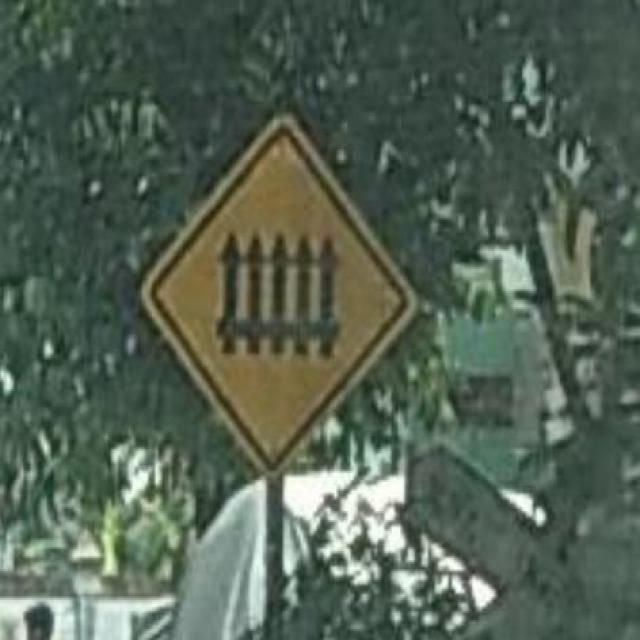traffic sign: (153, 131, 407, 458)
